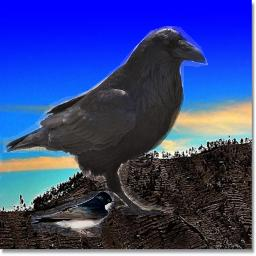Crow: (3, 26, 208, 215)
Swallow: (31, 191, 114, 237)
